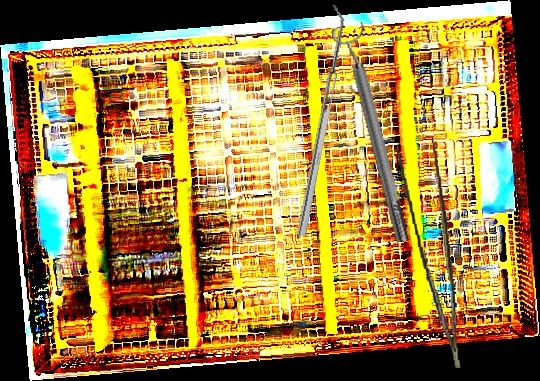Fixation Ring: (329, 20, 420, 247)
Spatula Surgical: (287, 4, 351, 237)
Tissue Forceps: (395, 132, 462, 372)
